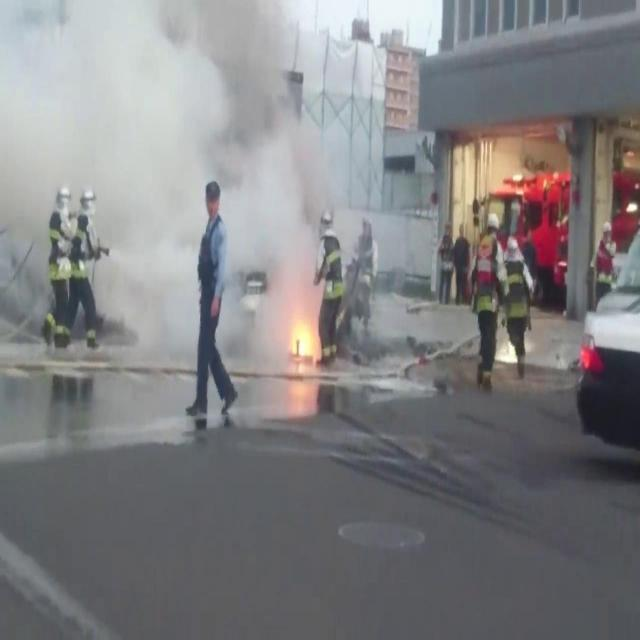Smoke: (0, 0, 308, 328)
